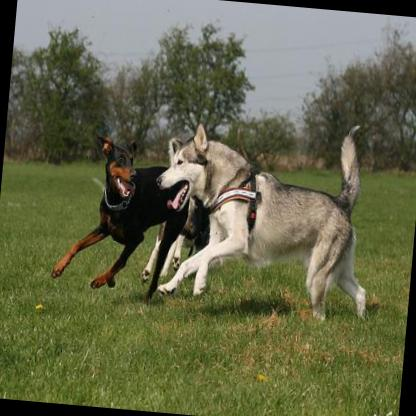Doberman: (143, 103, 384, 327), (47, 125, 204, 309)
